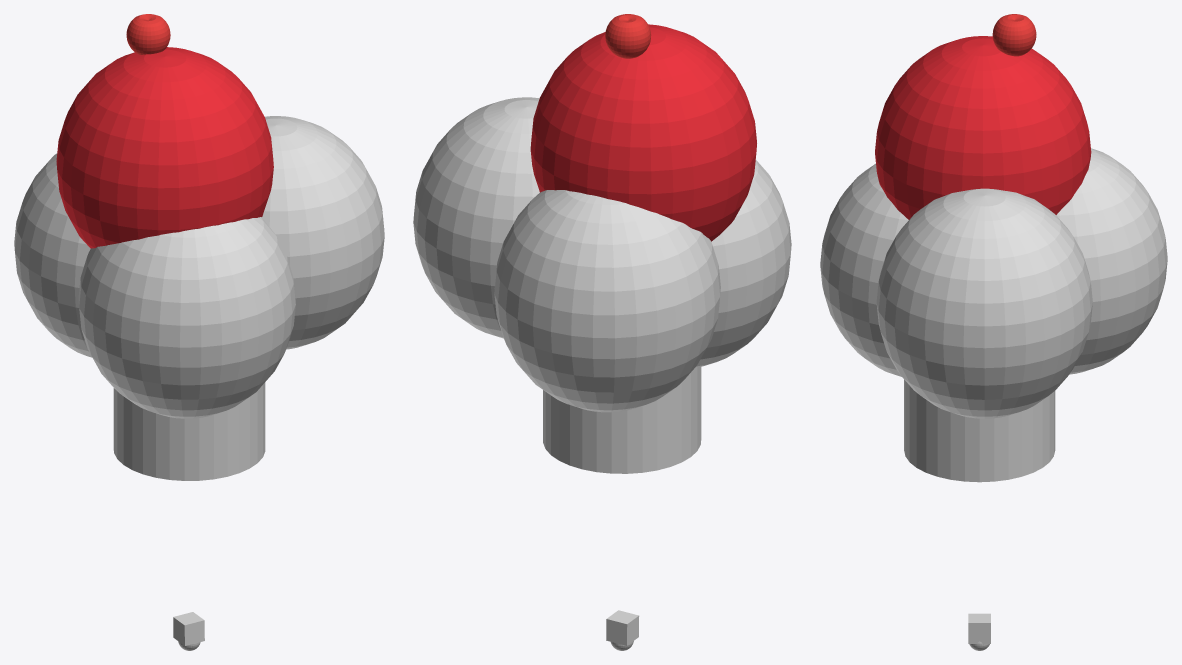
File: sorvete.glb
3 views of the same model, side by side, from view 1: azimuth 30°, elevation 25°; view 2: azimuth 150°, elevation 25°; view 3: azimuth 270°, elevation 25° (orthographic). The views are drawn at different scales.
Parts seen in each view (by area): view 1: Sphere.002, Sphere.004, Sphere.001, Cylinder, Sphere.003, Sphere.005, Cube; view 2: Sphere.003, Sphere.004, Sphere.001, Cylinder, Sphere.002, Sphere.005, Cube; view 3: Sphere.001, Sphere.004, Sphere.003, Cylinder, Sphere.002, Sphere.005, Cube.
Boxes of the visible parts, left/top/right/bottom form: Sphere.002: left=78, top=217, right=295, bottom=418; Sphere.004: left=56, top=47, right=273, bottom=248; Sphere.001: left=262, top=116, right=384, bottom=349; Cylinder: left=113, top=382, right=265, bottom=480; Sphere.003: left=14, top=153, right=92, bottom=357; Sphere.005: left=126, top=14, right=170, bottom=54; Cube: left=173, top=612, right=204, bottom=645; Sphere.003: left=494, top=190, right=720, bottom=412; Sphere.004: left=530, top=24, right=756, bottom=241; Sphere.001: left=413, top=97, right=539, bottom=338; Cylinder: left=543, top=366, right=701, bottom=473; Sphere.002: left=696, top=159, right=791, bottom=366; Sphere.005: left=605, top=14, right=651, bottom=58; Cube: left=606, top=610, right=639, bottom=645; Sphere.001: left=876, top=188, right=1092, bottom=418; Sphere.004: left=875, top=36, right=1091, bottom=219; Sphere.003: left=1056, top=148, right=1167, bottom=374; Cylinder: left=904, top=379, right=1055, bottom=482; Sphere.002: left=820, top=163, right=908, bottom=376; Sphere.005: left=992, top=14, right=1036, bottom=56; Cube: left=968, top=613, right=990, bottom=643.
Bounding box in the file's own units: 30.75 × 59.99 × 30.46.
